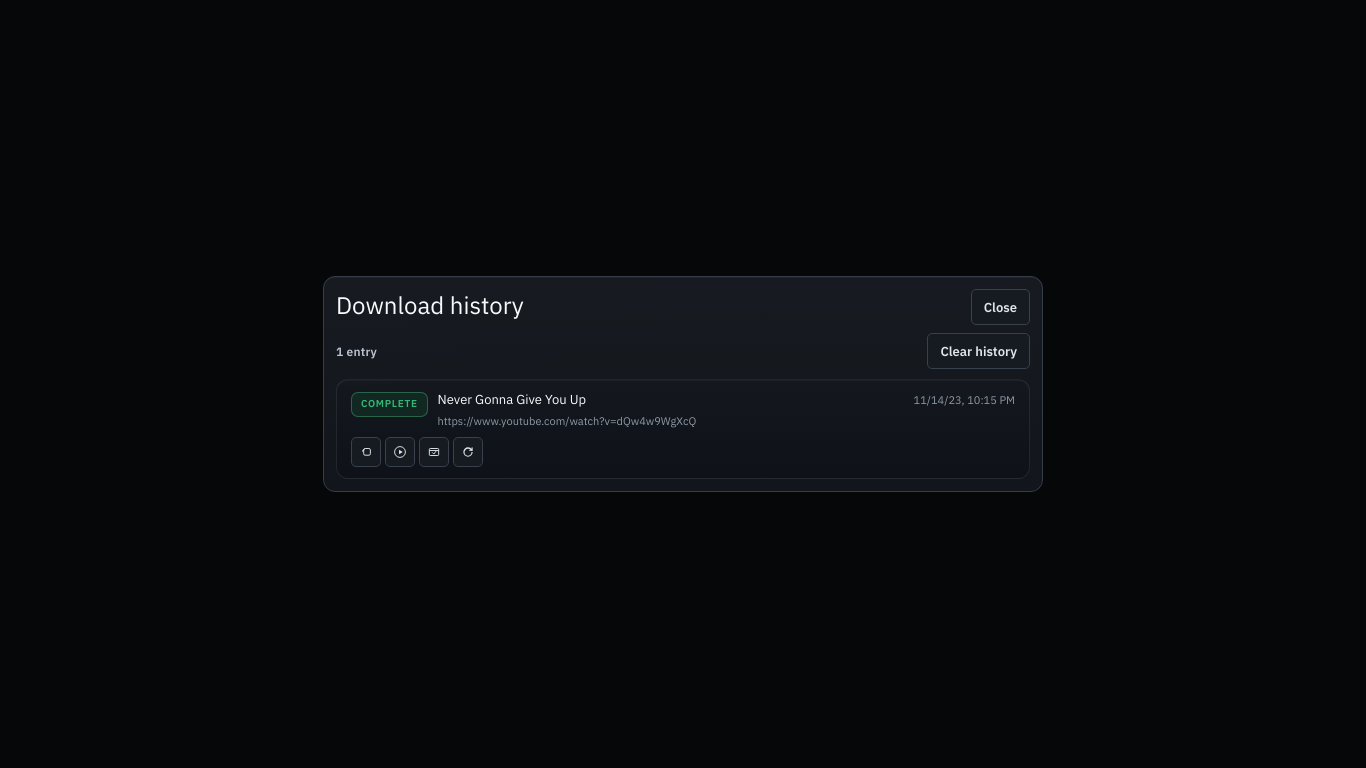
Scenario: DownloadHistoryModal › clears history after confirm
Expected: the text "Never Gonna Give You Up" is shown, x1=438 y1=392 x2=586 y2=408
Click the button "Clear history".
click(979, 352)  # box x1=927 y1=334 x2=1030 y2=370
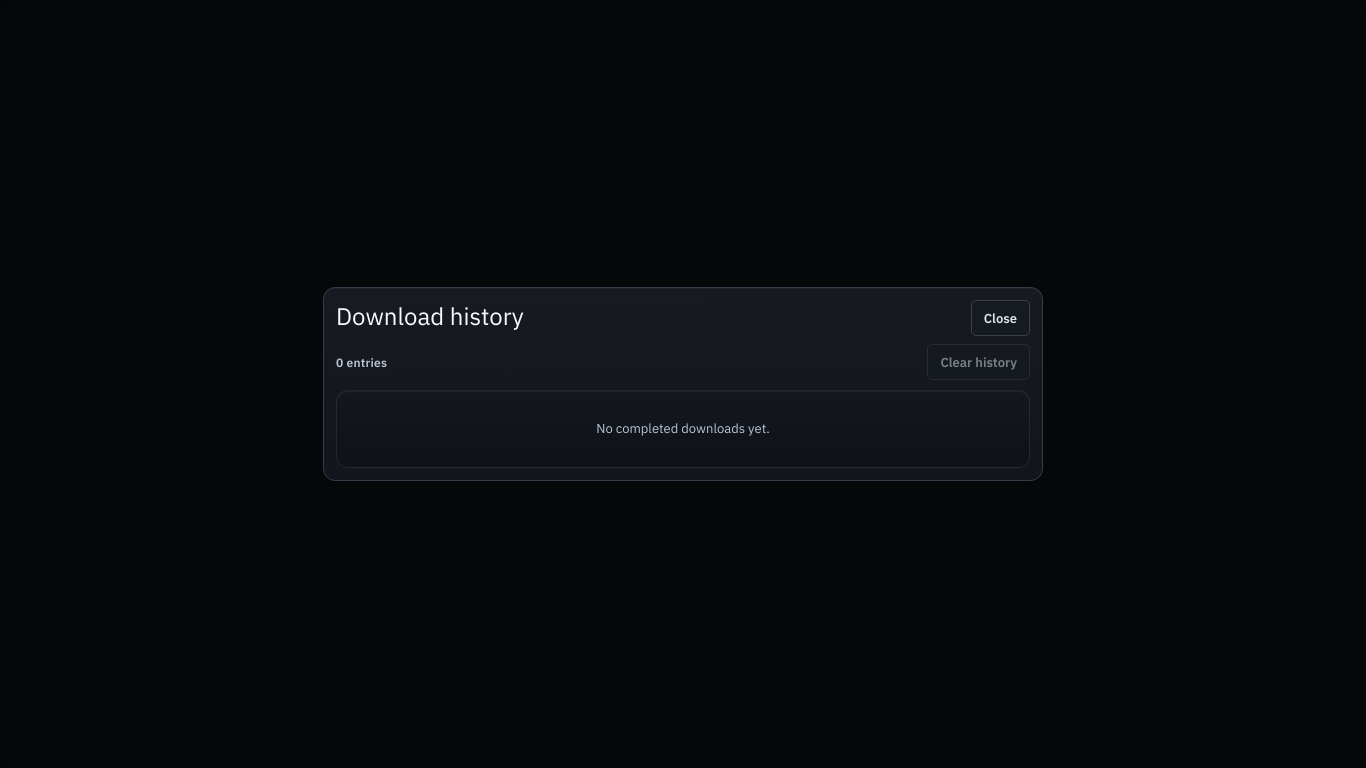
Result: the text "No completed downloads yet." is shown at x1=596 y1=420 x2=770 y2=437
